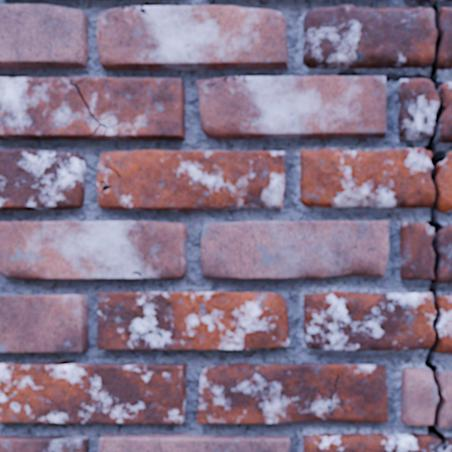brick: (97, 6, 286, 69), (198, 76, 385, 138), (0, 78, 184, 139), (198, 364, 387, 423), (0, 363, 185, 423), (98, 292, 288, 349), (98, 151, 284, 209), (201, 222, 388, 278), (0, 222, 186, 278), (0, 5, 87, 68), (0, 150, 84, 209), (0, 295, 87, 351), (99, 435, 289, 451), (0, 436, 88, 451)
broken_brick: (302, 4, 435, 69), (299, 147, 433, 208), (303, 290, 434, 351), (397, 80, 438, 140), (303, 433, 438, 451), (400, 367, 437, 426), (399, 221, 433, 280), (436, 295, 451, 353), (437, 81, 451, 143), (437, 370, 451, 429), (438, 7, 451, 69), (438, 151, 451, 212), (438, 225, 451, 283), (446, 435, 451, 451)
crack: (384, 0, 449, 451), (70, 77, 119, 136), (204, 76, 248, 86), (108, 4, 148, 15), (336, 69, 368, 77), (131, 270, 145, 279), (98, 29, 101, 38)
